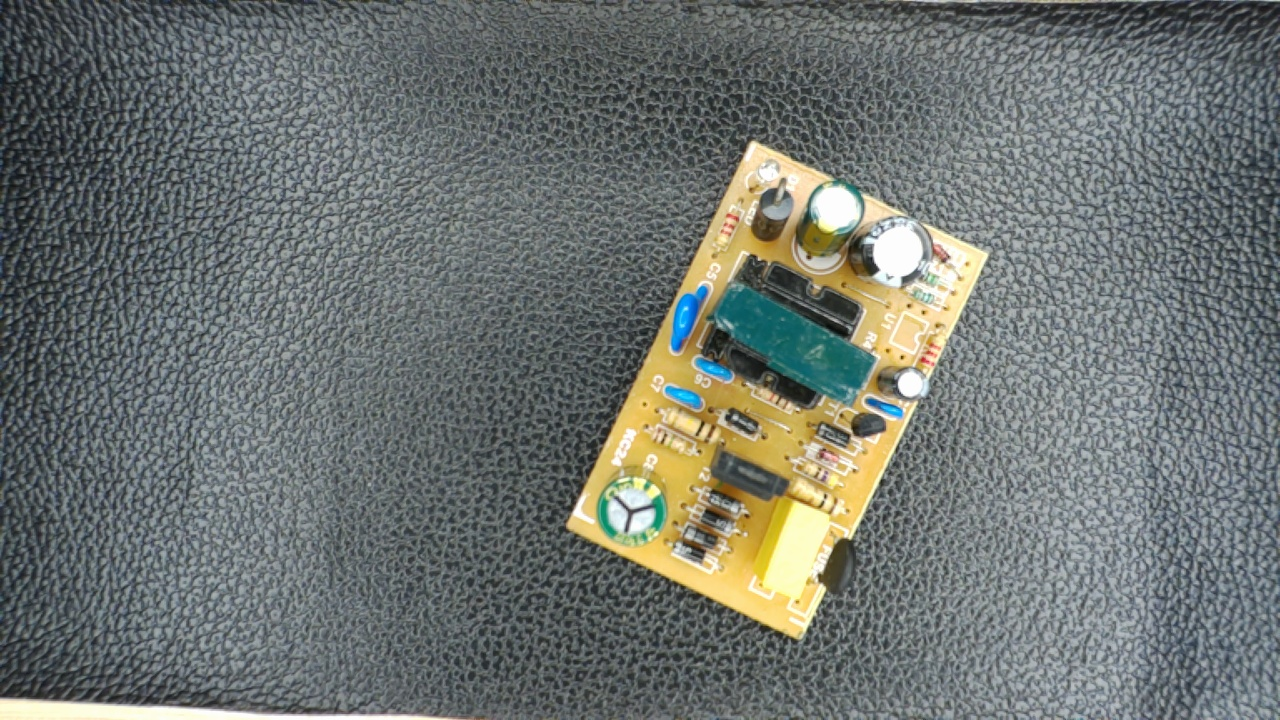fuse: (809, 524, 861, 602)
hv_capacitor: (594, 461, 671, 549)
mov: (662, 279, 714, 357)
